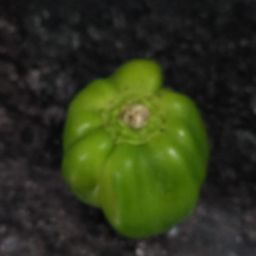Bell pepper: (38, 51, 222, 242)
